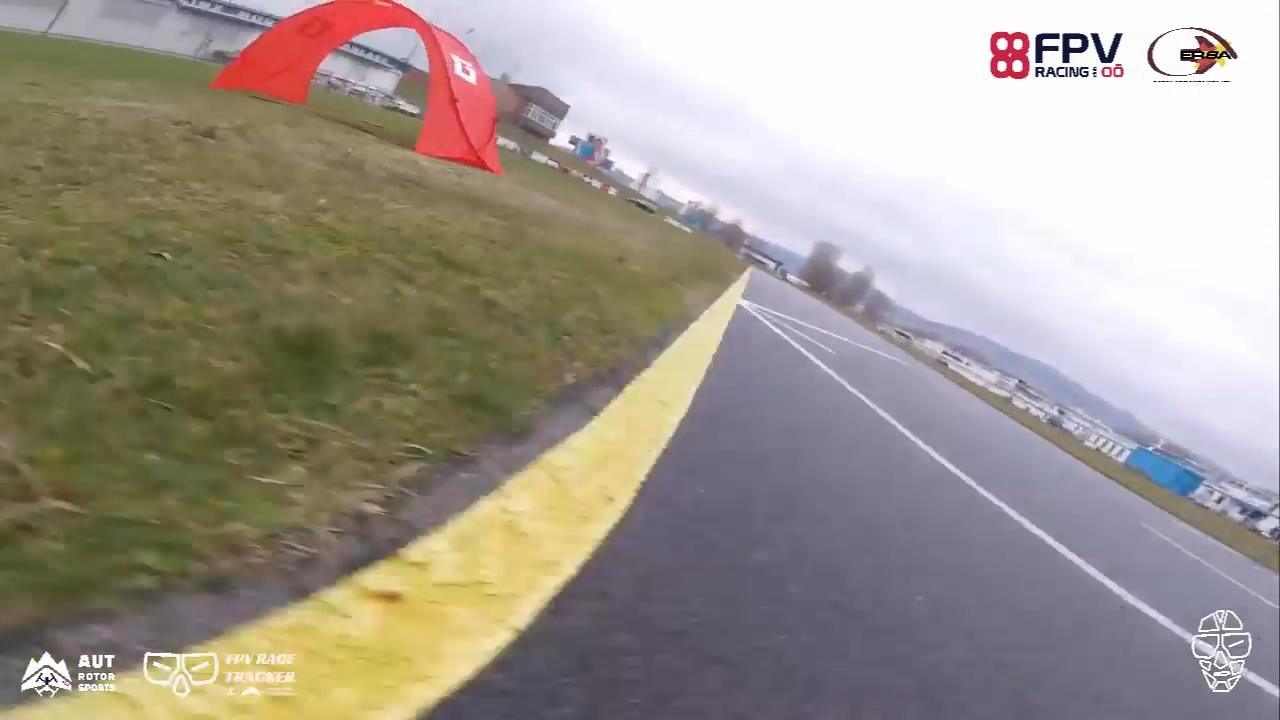gate: (206, 1, 505, 173)
